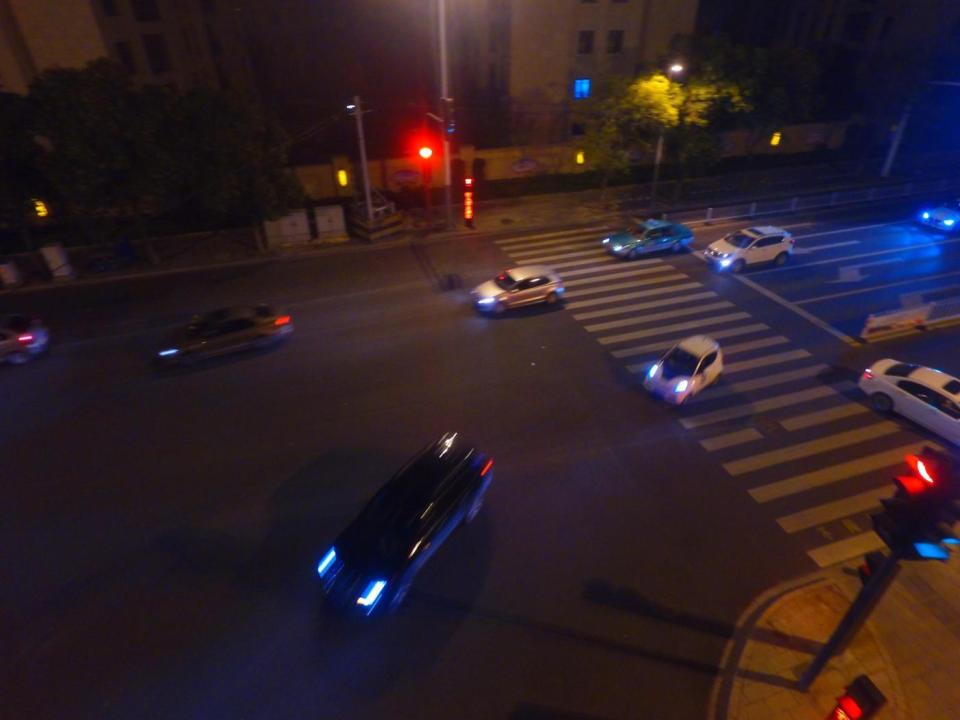car: (317, 435, 498, 620), (860, 355, 958, 449), (153, 300, 291, 366), (642, 335, 723, 403), (470, 266, 564, 313), (704, 226, 794, 272), (602, 217, 697, 258), (1, 310, 50, 366), (920, 198, 960, 234)
